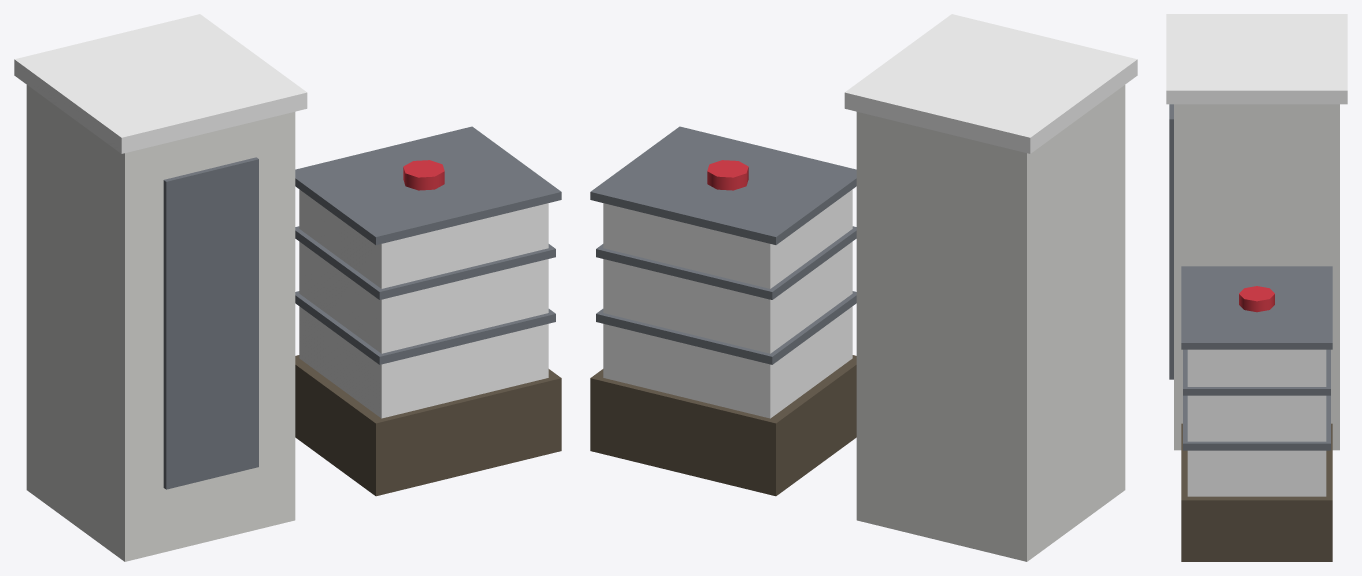
Rendered from site_clutter6.fbx.
3 renders of one model, left to right at view 1: azimuth 30°, elevation 25°; view 2: azimuth 150°, elevation 25°; view 3: azimuth 270°, elevation 25°, orthographic. The views are drawn at different scales.
Visible parts, largest first — view 1: a1089/0/site_clutter6; view 2: a1089/0/site_clutter6; view 3: a1089/0/site_clutter6.
Boxes of the visible parts, <box> form: a1089/0/site_clutter6: <box>14,14,561,561</box>; a1089/0/site_clutter6: <box>590,14,1137,561</box>; a1089/0/site_clutter6: <box>1166,14,1347,561</box>.
Size of the model in its own units: 2.9 by 2.65 by 1.2.
